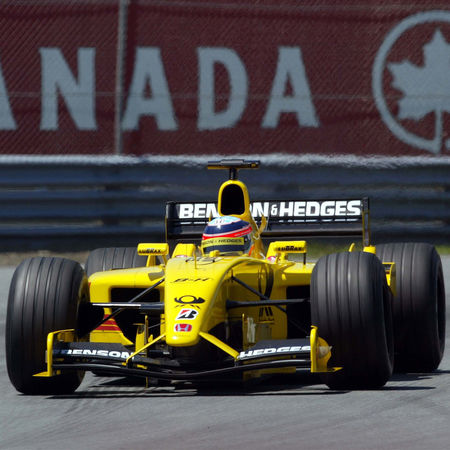f1_car: (2, 156, 450, 406)
